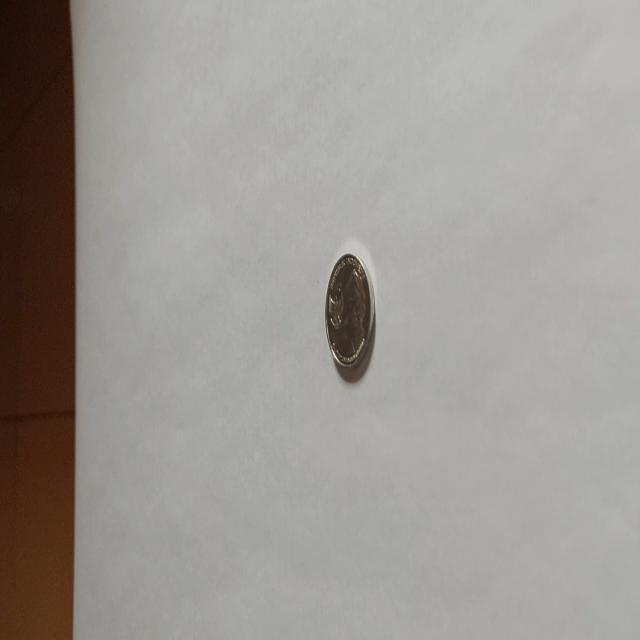dua ratus rupiah: (324, 250, 375, 370)
